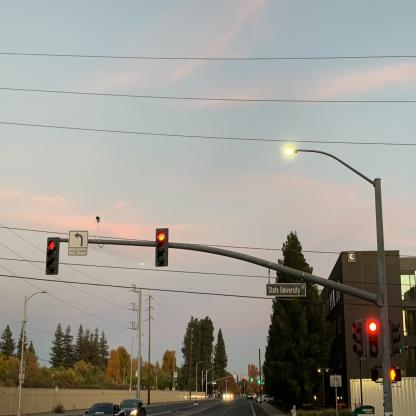left-red: (43, 230, 63, 282)
red: (153, 223, 172, 271), (364, 314, 382, 361)
